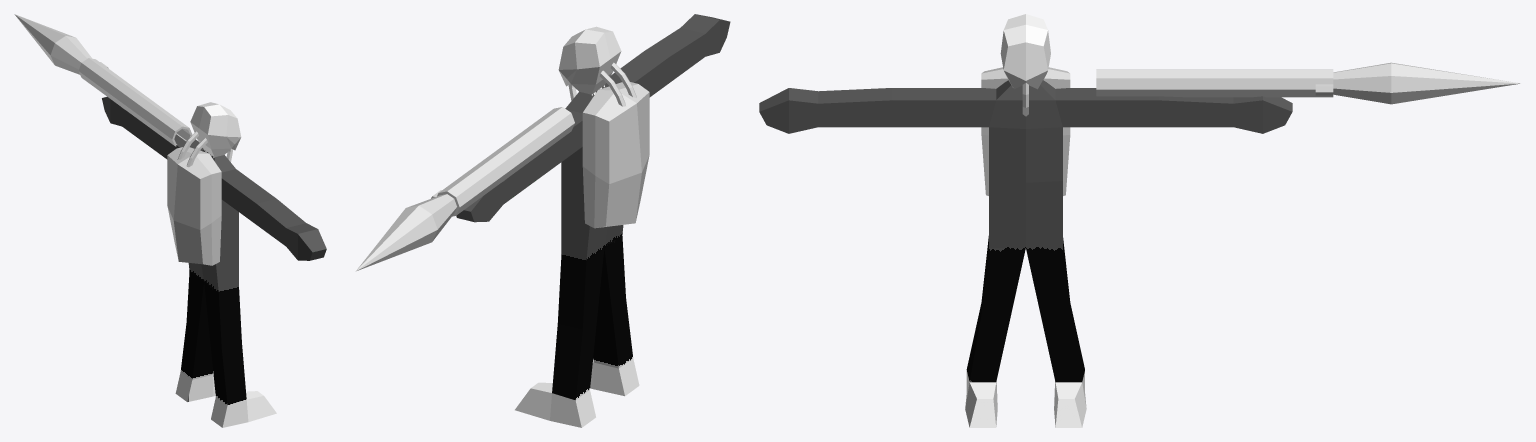
File: enemy_rocketeer.glb
3 renders of one model, left to right at view 1: azimuth 30°, elevation 25°; view 2: azimuth 150°, elevation 25°; view 3: azimuth 270°, elevation 25°, orthographic. The views are drawn at different scales.
Visible parts, largest first — view 1: Rocketeer, Backpack, rpg, rocket; view 2: Rocketeer, Backpack, rpg, rocket; view 3: Rocketeer, rpg, rocket, Backpack.
Boxes of the visible parts, bbox=[...] form: Rocketeer: bbox=[102, 97, 326, 427]; Backpack: bbox=[167, 131, 221, 265]; rpg: bbox=[78, 58, 192, 146]; rocket: bbox=[14, 14, 91, 74]; Rocketeer: bbox=[456, 14, 730, 427]; Backpack: bbox=[582, 62, 649, 228]; rpg: bbox=[431, 107, 574, 216]; rocket: bbox=[356, 194, 456, 271]; Rocketeer: bbox=[759, 14, 1292, 427]; rpg: bbox=[1096, 69, 1333, 97]; rocket: bbox=[1333, 62, 1520, 104]; Backpack: bbox=[981, 67, 1070, 195].
Size of the model in its own units: 0.8 by 2.85 by 5.15.
Materials: 1 (1 with a texture image).
